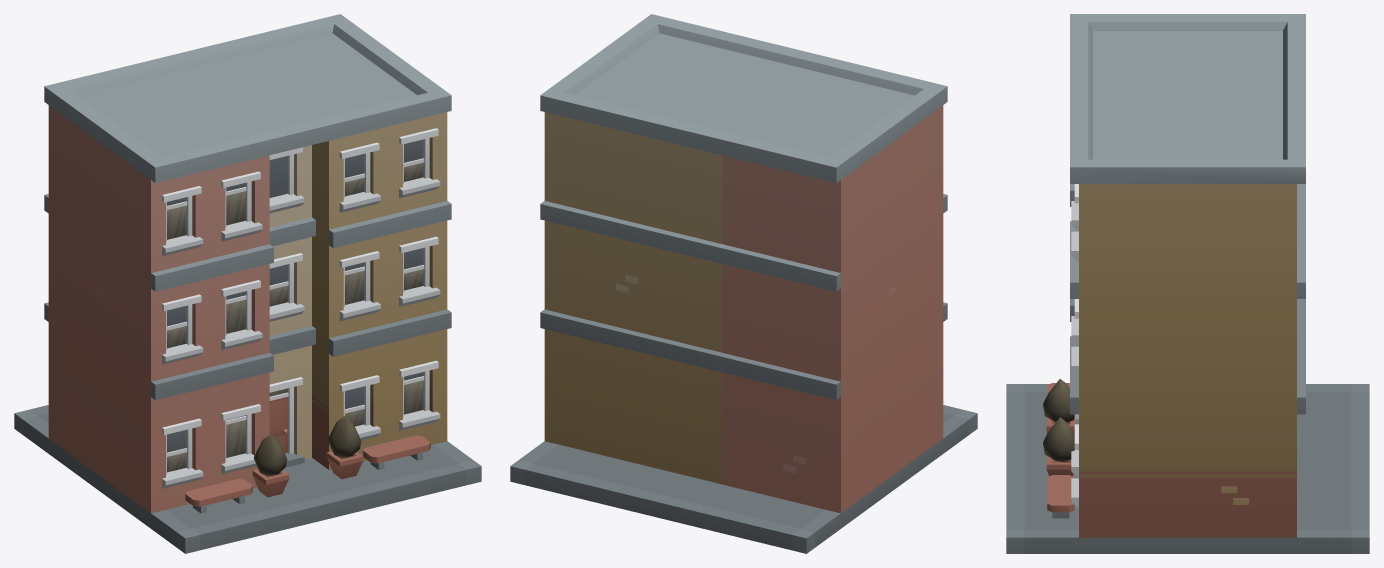
Rendered from cairo-walkup-b.glb.
3 renders of one model, left to right at view 1: azimuth 30°, elevation 25°; view 2: azimuth 150°, elevation 25°; view 3: azimuth 270°, elevation 25°, orthographic. The views are drawn at different scales.
Parts seen in each view (by area): view 1: building_F; view 2: building_F; view 3: building_F.
Part boxes in pixels (x1=…): building_F: x1=14, y1=14, x2=481, y2=553; building_F: x1=510, y1=14, x2=977, y2=553; building_F: x1=1006, y1=14, x2=1369, y2=553.
Bounding box in the file's own units: 2.01 × 2.35 × 2.
2 materials, 2 textured.
